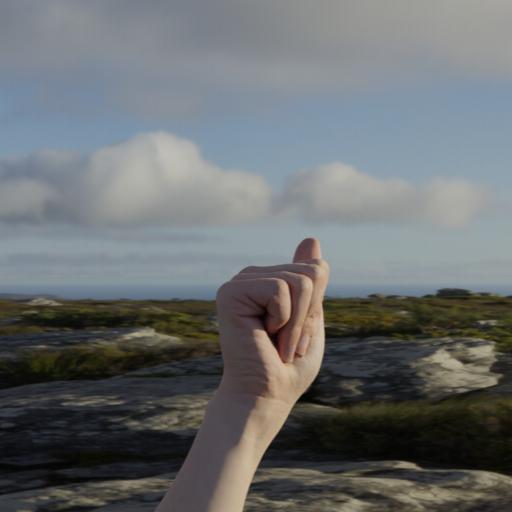A: (213, 232, 336, 405)
